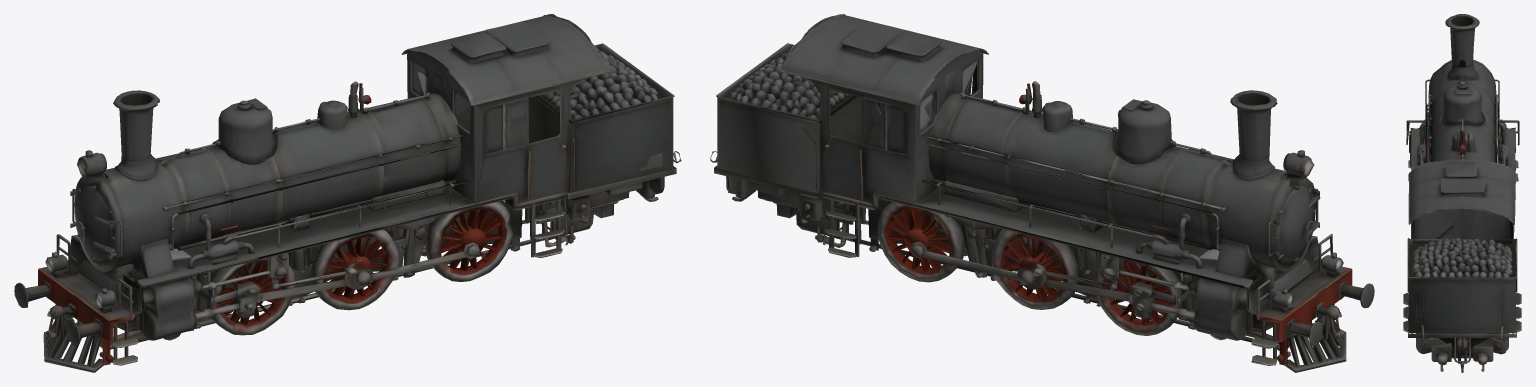
Rendered from train_old.glb.
3 renders of one model, left to right at view 1: azimuth 30°, elevation 25°; view 2: azimuth 150°, elevation 25°; view 3: azimuth 270°, elevation 25°, orthographic. The views are drawn at different scales.
Bounding box in the file's own units: 0.9536 × 0.3633 × 0.2095.
Materials: 1 (1 with a texture image).
